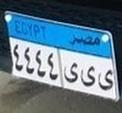4: (47, 51, 59, 83), (12, 43, 24, 72), (35, 50, 46, 79), (23, 46, 34, 75)
yaa: (97, 65, 114, 93), (79, 64, 95, 90), (63, 61, 78, 85)
